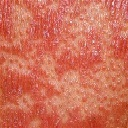Pityriasis Rubra Pilaris: (4, 6, 127, 124)
